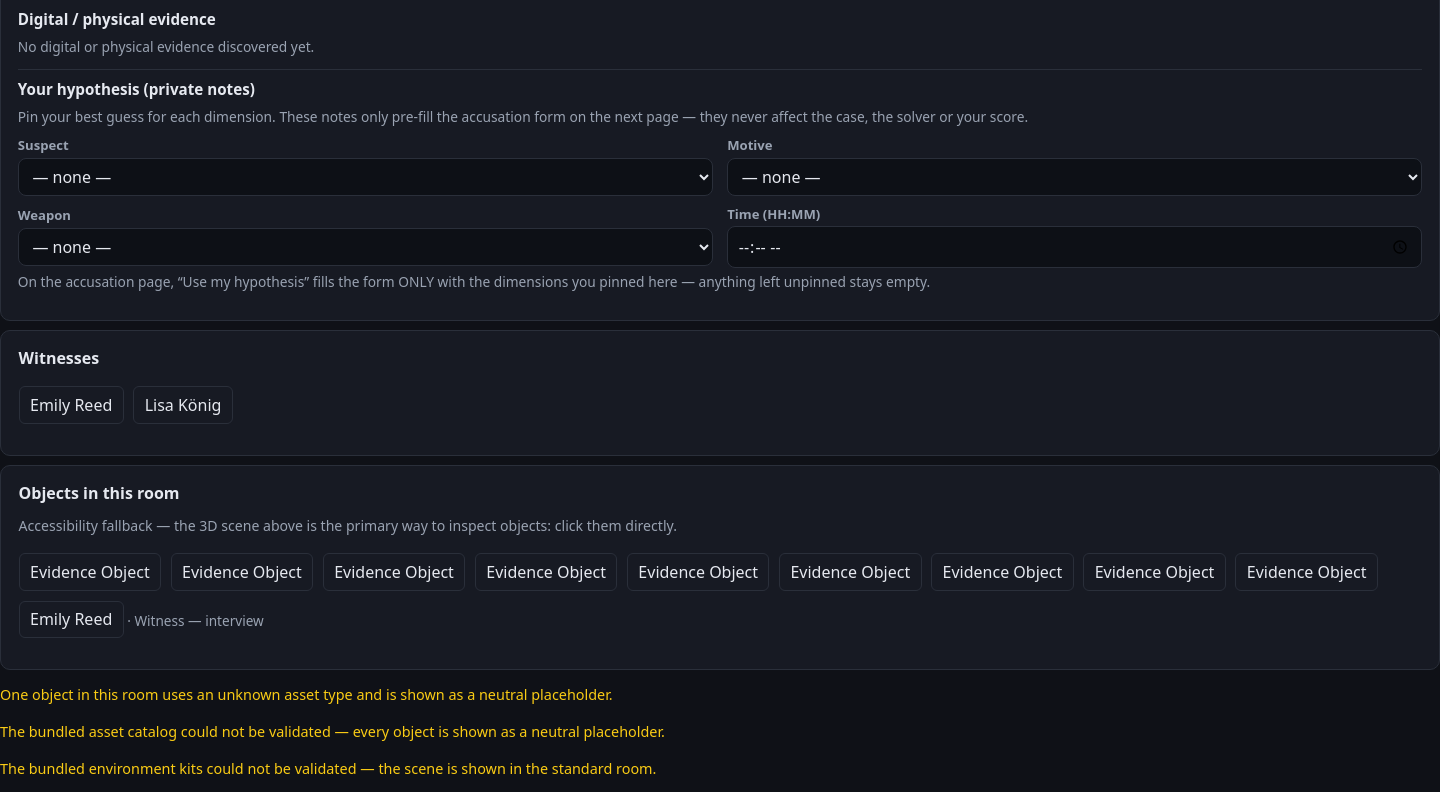
Test case: Phase 23 — interview question flow on /scene › asking TIME POSTs {questionType:'TIME'}, renders the statement in the panel, does NOT open the evidence overlay, updates knowledge + notebook
The image size is (1440, 792).
(page scrolled)
Step 1. Click the button "Emily Reed" below "Witnesses" → (71, 405), box [19, 386, 124, 424]
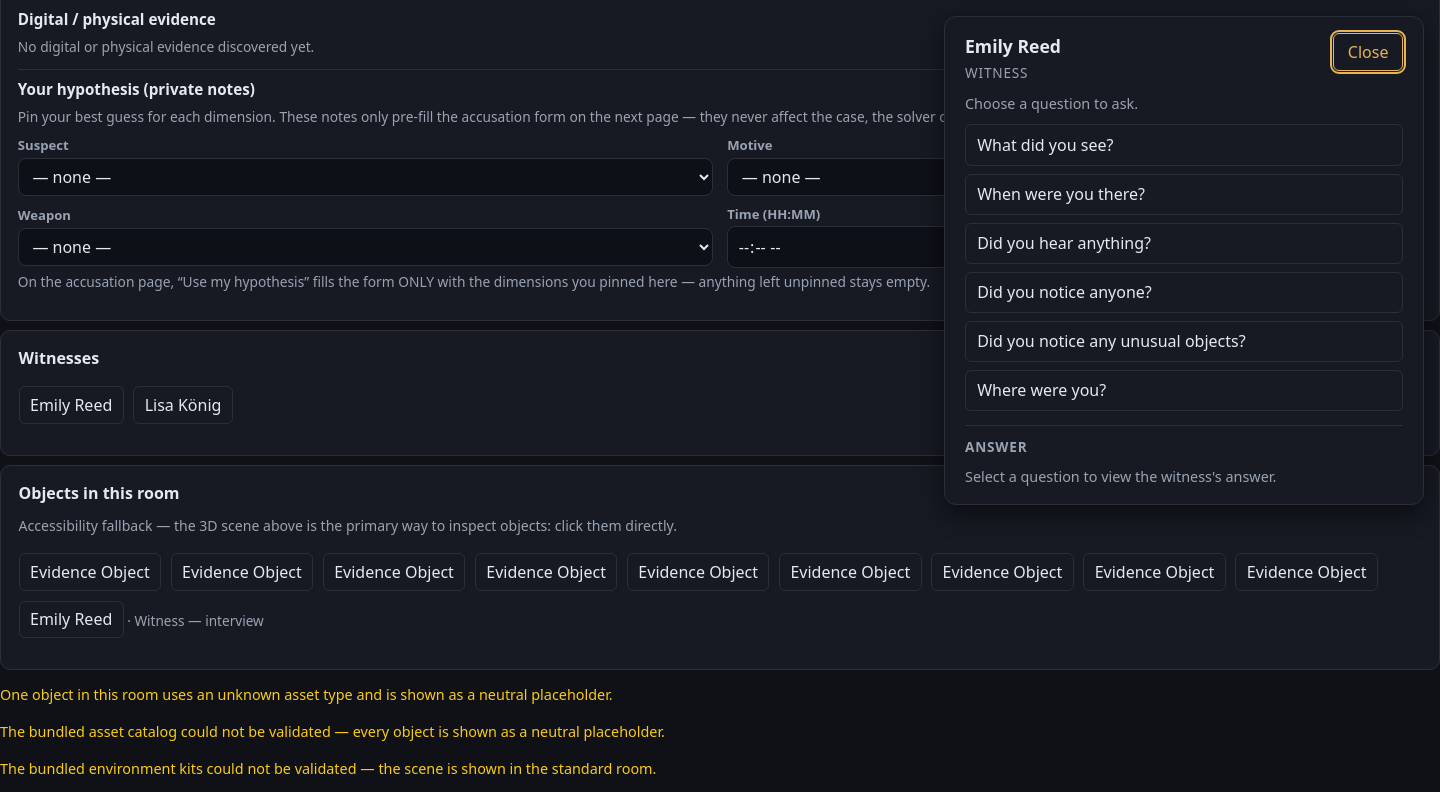
Result: the dialog with test id "witness-panel" is shown at [944, 16, 1424, 505]
Step 2. Click the button with test id "witness-question-TIME" → (1061, 194), box [965, 174, 1403, 215]
(page scrolled)
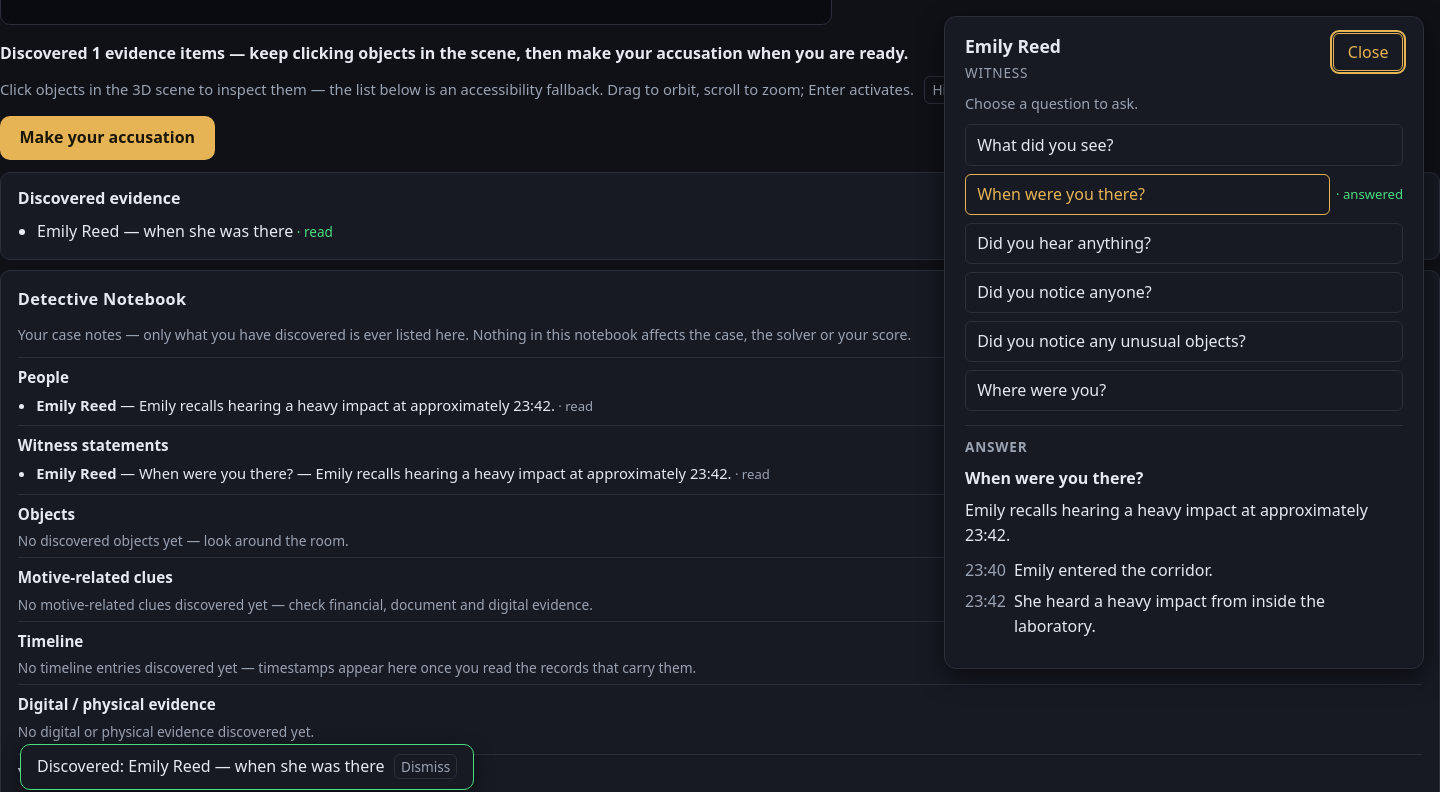
Result: the text with test id "witness-statement-summary" shows "heavy impact at approximately 23:42" at [965, 499, 1368, 546]
Result: the text with test id "discovery-toast-text" shows "Discovered:" at [37, 756, 384, 778]
Result: the list with test id "notebook-group-witness-statements-list" is shown at [36, 463, 770, 483]
